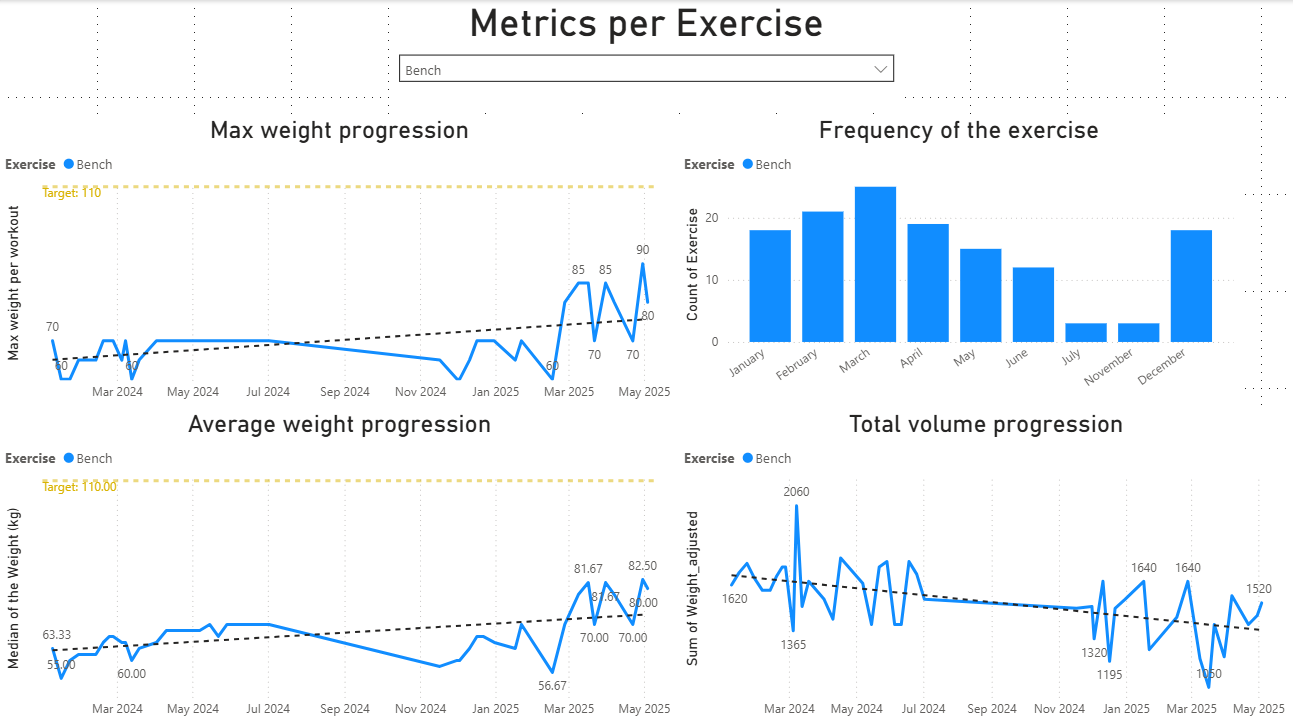

The dashboard page shown, as its layout file describes it:
{"tool":"powerbi","page":{"name":"Metrics per Exercise","canvas":[1280,720],"ordinal":1},"visuals":[{"type":"lineChart","title":"Total volume progression","fields":{"Category":["Sheet1.Date"],"Series":["Sheet1.Exercise"],"Y":["Sum(Sheet1.Weight_adjusted)"]},"box":[672,405.8,607.7,313.7],"z":0},{"type":"lineChart","title":"Average weight progression","fields":{"Category":["Sheet1.Date"],"Series":["Sheet1.Exercise"],"Y":["Avg(Sheet1.Weight(kg))"]},"box":[0,405.8,672,313.7],"z":1000},{"type":"slicer","title":"Metrics per Exercise","fields":{"Values":["Sheet1.Exercise"]},"box":[416.7,0,509.7,104.9],"z":2000},{"type":"lineChart","title":"Max weight progression","fields":{"Category":["Sheet1.Date"],"Series":["Sheet1.Exercise"],"Y":["Max(Sheet1.Weight(kg))"]},"box":[0,114.8,672,291],"z":3000},{"type":"columnChart","title":"Frequency of the exercise","fields":{"Category":["Sheet1.Date.Variation.Date Hierarchy.Month"],"Y":["CountNonNull(Sheet1.Exercise)"],"Series":["Sheet1.Exercise"]},"box":[672,114.8,554.2,291],"z":4000}]}

Visuals, with their boxes in screenshot pixels (x1, y1, x2, y2), scaled from the page's 1280x720 canvas onto the 1293x727 screenshot:
"Total volume progression" lineChart: l=679, t=410, r=1292, b=726
"Average weight progression" lineChart: l=0, t=410, r=679, b=726
"Metrics per Exercise" slicer: l=421, t=0, r=936, b=106
"Max weight progression" lineChart: l=0, t=116, r=679, b=410
"Frequency of the exercise" columnChart: l=679, t=116, r=1239, b=410
